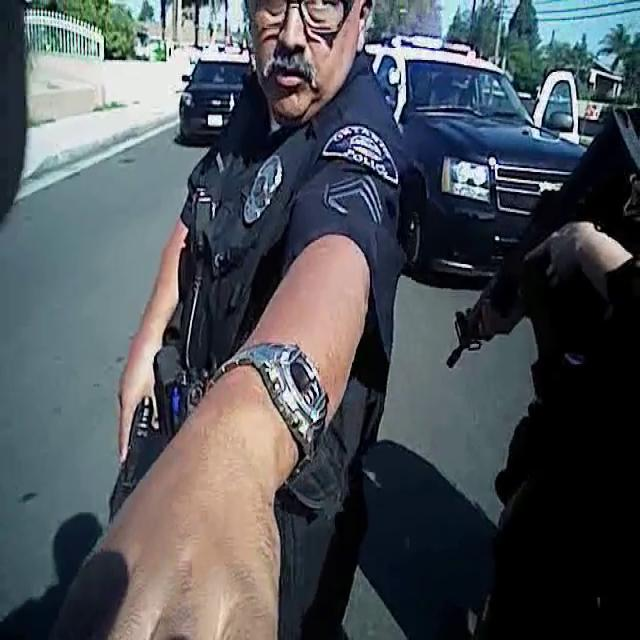gun: (98, 366, 168, 546)
